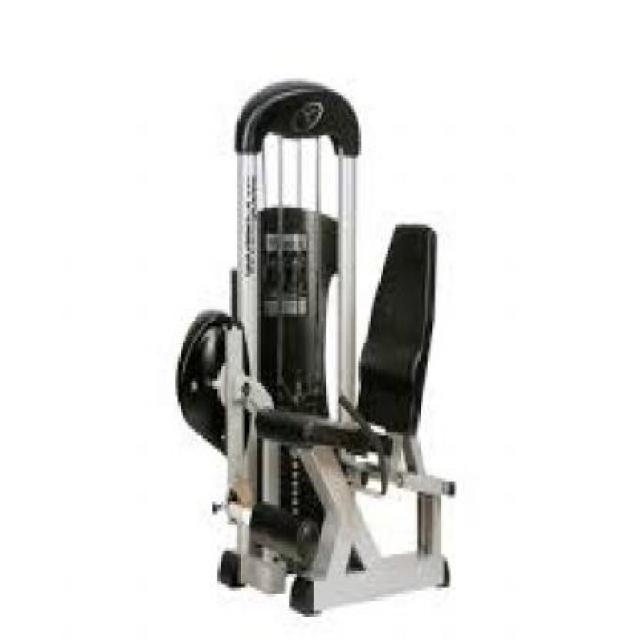leg extension: (161, 66, 477, 619)
